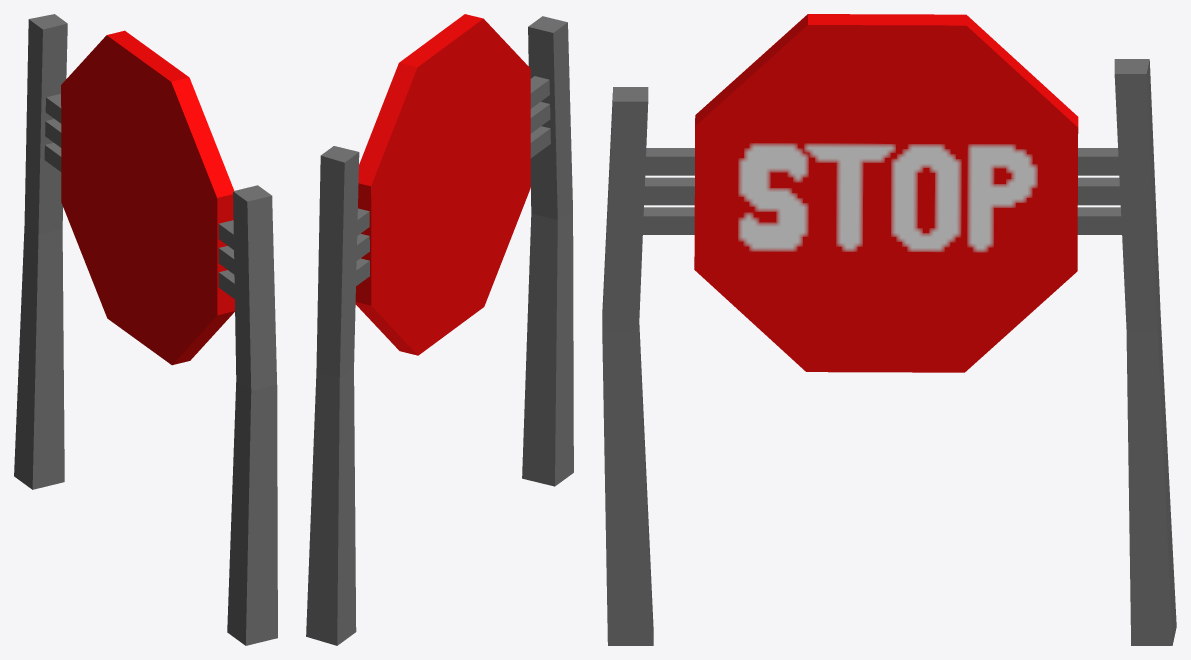
Rendered from stop_sign.fbx.
3 views of the same model, side by side, from view 1: azimuth 30°, elevation 25°; view 2: azimuth 150°, elevation 25°; view 3: azimuth 270°, elevation 25° (orthographic). The views are drawn at different scales.
Parts seen in each view (by area): view 1: Cylinder, Cube, Cube.001, Cube.002; view 2: Cylinder, Cube.001, Cube, Cube.002; view 3: Cylinder, Cube.001, Cube, Cube.002.
Part boxes in pixels (bbox=[...]): Cylinder: bbox=[61, 30, 234, 365]; Cube: bbox=[227, 185, 277, 645]; Cube.001: bbox=[14, 14, 67, 489]; Cube.002: bbox=[44, 94, 234, 298]; Cylinder: bbox=[355, 14, 530, 355]; Cube.001: bbox=[306, 146, 359, 645]; Cube: bbox=[522, 16, 573, 486]; Cube.002: bbox=[356, 76, 550, 285]; Cylinder: bbox=[694, 14, 1078, 372]; Cube.001: bbox=[1114, 59, 1176, 645]; Cube: bbox=[602, 87, 653, 645]; Cube.002: bbox=[643, 148, 1121, 234].
Size of the model in its own units: 44 by 657 by 554.
